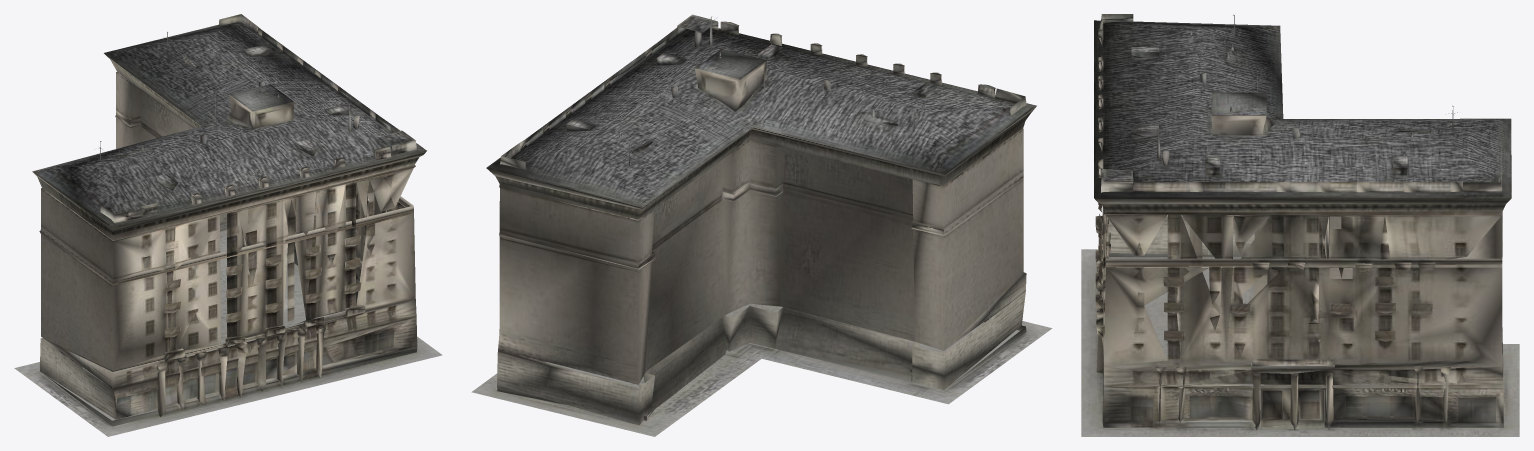
Rendered from spb_r9.glb.
The picture shows the model from 3 angles, left to right: view 1: azimuth 30°, elevation 25°; view 2: azimuth 150°, elevation 25°; view 3: azimuth 270°, elevation 25°; orthographic projection. The views are drawn at different scales.
Visible parts, largest first — view 1: tripo_node_f42c7d6a; view 2: tripo_node_f42c7d6a; view 3: tripo_node_f42c7d6a.
Boxes of the visible parts, x1,y1,x2,y2 form: tripo_node_f42c7d6a: (14,14,442,436); tripo_node_f42c7d6a: (471,14,1052,436); tripo_node_f42c7d6a: (1081,14,1519,436).
Size of the model in its own units: 0.9995 by 0.6987 by 0.9854.
1 material, 1 textured.
